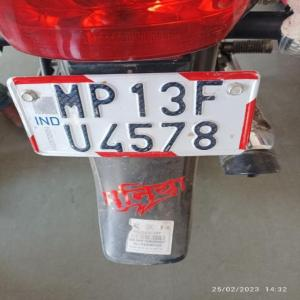Plate: (16, 74, 261, 156)
